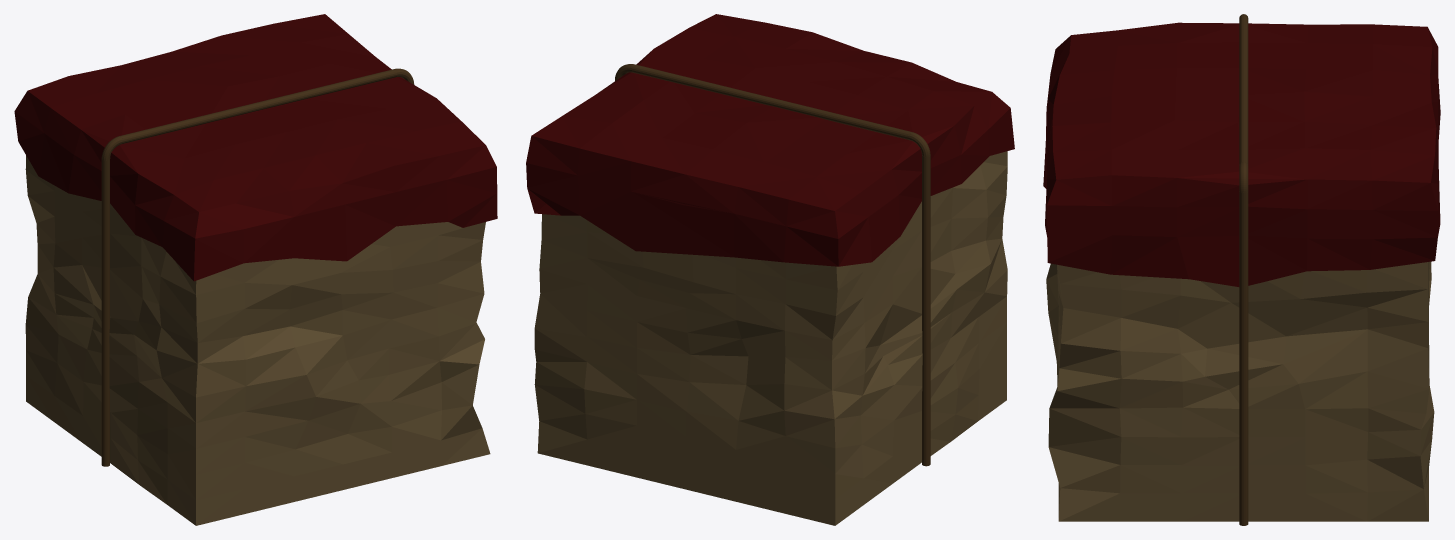
3 renders of one model, left to right at view 1: azimuth 30°, elevation 25°; view 2: azimuth 150°, elevation 25°; view 3: azimuth 270°, elevation 25°, orthographic. The views are drawn at different scales.
Parts seen in each view (by area): view 1: Box, Abdeckung, Seil; view 2: Box, Abdeckung, Seil; view 3: Abdeckung, Box, Seil.
Part boxes in pixels (x1=…): Box: x1=25, y1=155, x2=490, y2=525; Abdeckung: x1=14, y1=14, x2=497, y2=281; Seil: x1=101, y1=68, x2=414, y2=466; Box: x1=534, y1=151, x2=1007, y2=525; Abdeckung: x1=526, y1=14, x2=1014, y2=266; Seil: x1=615, y1=64, x2=930, y2=466; Abdeckung: x1=1043, y1=22, x2=1440, y2=286; Box: x1=1046, y1=261, x2=1434, y2=521; Seil: x1=1239, y1=14, x2=1248, y2=525.
Size of the model in its own units: 427 by 422 by 429.
